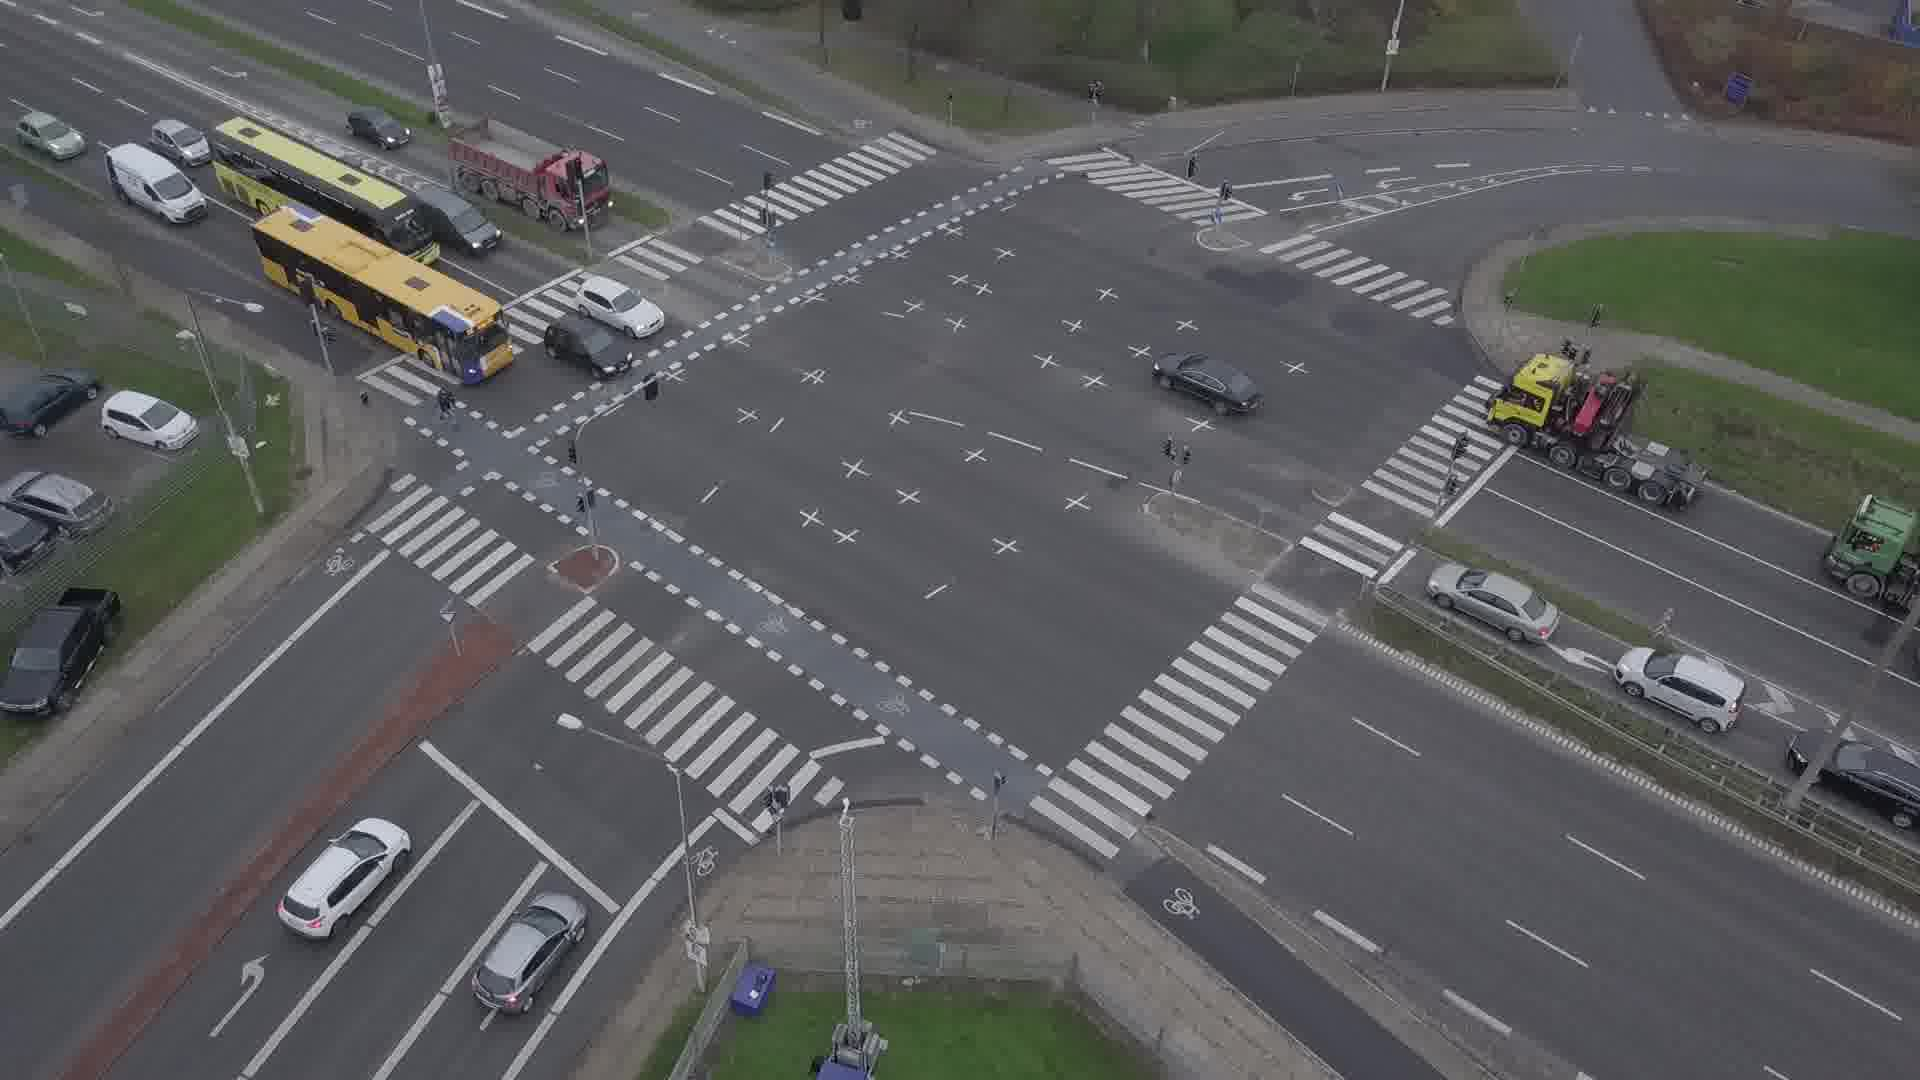bicycle: (430, 388, 457, 424)
bus: (250, 200, 513, 381), (212, 114, 437, 262)
car: (277, 818, 413, 937), (469, 892, 587, 1013), (1789, 729, 1920, 828), (1613, 646, 1747, 732), (1425, 559, 1562, 643), (1150, 353, 1261, 416), (573, 274, 665, 339), (544, 313, 634, 379), (420, 186, 502, 252), (14, 110, 83, 159), (345, 103, 411, 150), (150, 118, 208, 166), (324, 145, 364, 166)
lorry: (1483, 346, 1714, 510), (445, 115, 614, 232), (104, 143, 208, 224)
